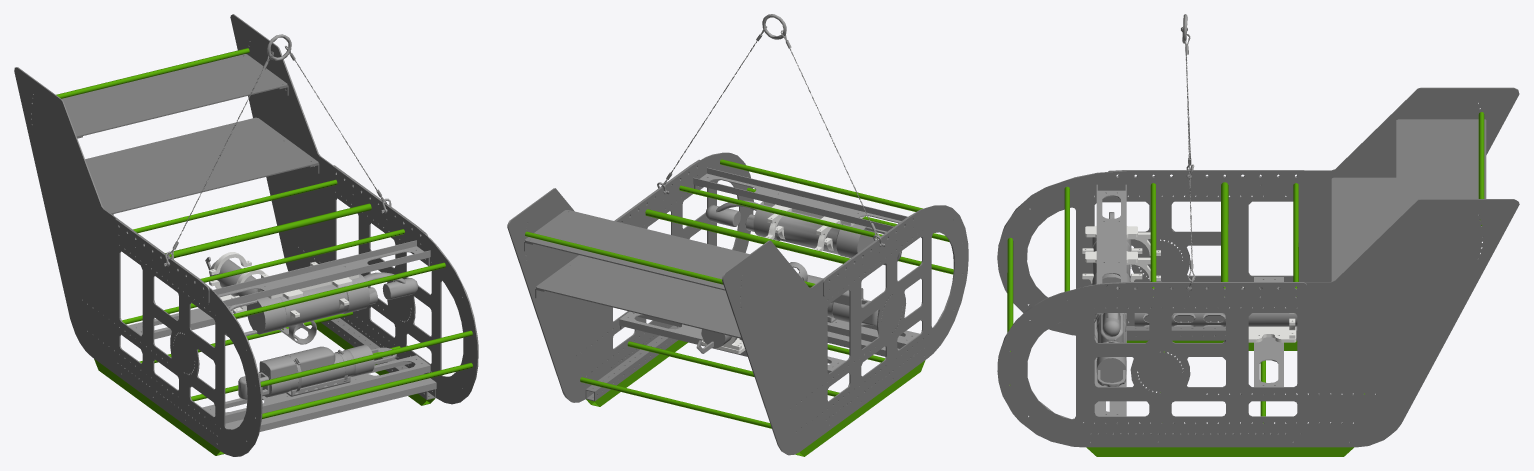
Rendered from csa-sled.glb.
3 views of the same model, side by side, from view 1: azimuth 30°, elevation 25°; view 2: azimuth 150°, elevation 25°; view 3: azimuth 270°, elevation 25° (orthographic). The views are drawn at different scales.
Visible parts, largest first — view 1: Pitch Plate (1):1, Stainless Weight Bar 1:1, Fiberglass Rod (1):1, Mount Plate:1; view 2: Pitch Plate (1):1, Stainless Weight Bar 1:1, Fiberglass Rod (1):1, Mount Plate:1; view 3: Pitch Plate (1):1, Stainless Weight Bar 1:1, Fiberglass Rod (1):1, Mount Plate:1.
Boxes of the visible parts, x1,y1,x2,y2 form: Pitch Plate (1):1: (14,14,478,456); Stainless Weight Bar 1:1: (128,34,436,431); Fiberglass Rod (1):1: (56,48,472,455); Mount Plate:1: (209,252,359,321); Pitch Plate (1):1: (507,152,968,455); Stainless Weight Bar 1:1: (619,14,919,373); Fiberglass Rod (1):1: (525,159,953,456); Mount Plate:1: (701,201,864,353); Pitch Plate (1):1: (997,87,1519,447); Stainless Weight Bar 1:1: (1083,14,1297,433); Fiberglass Rod (1):1: (1007,112,1484,456); Mount Plate:1: (1082,226,1296,342).
Bounding box in the file's own units: 0.9428 × 1.44 × 1.77.
